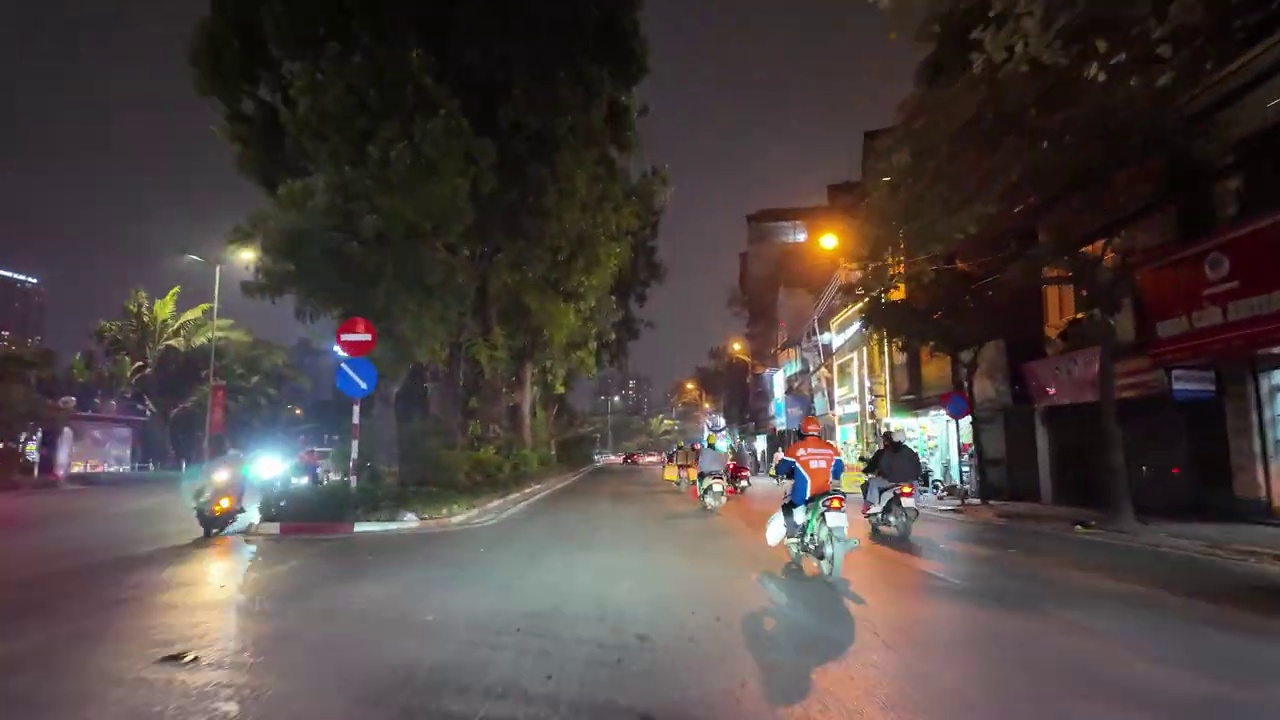acesa: (807, 224, 850, 264), (226, 242, 261, 271), (725, 337, 751, 363)
